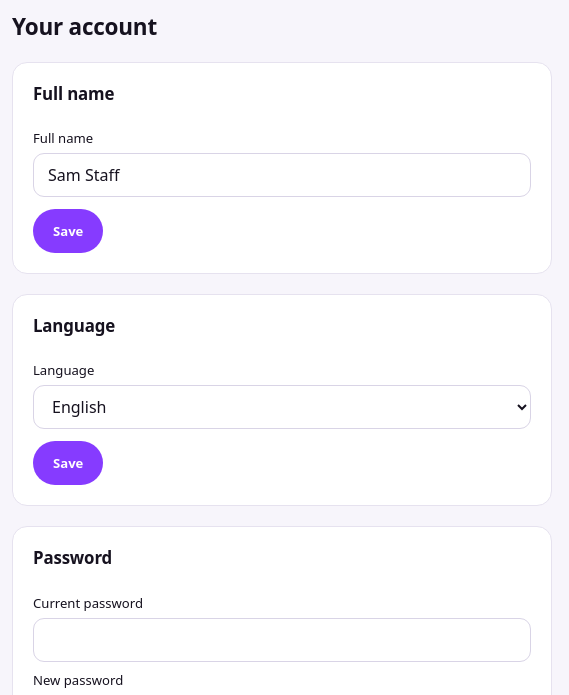
Test case: AccountPage › refuses an empty name without saving
Clear the field labelled "Full name". click: (282,175)
box: x1=33 y1=153 x2=531 y2=197
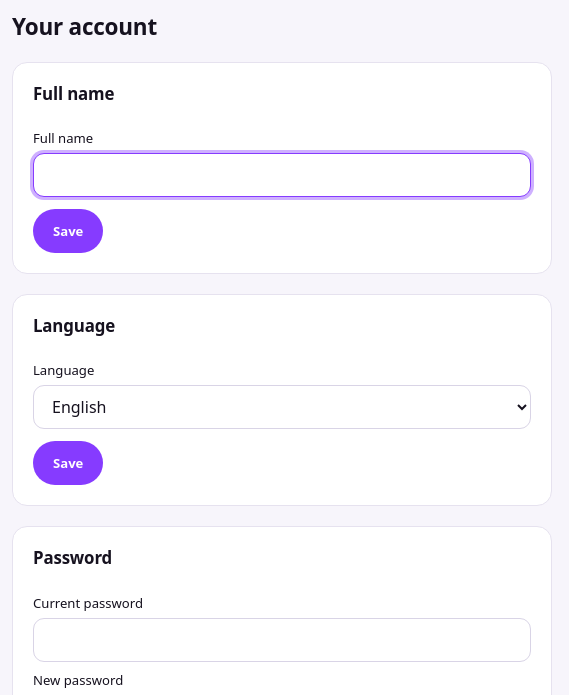
Click the 1st button "Save". click: (68,231)
box: x1=33 y1=209 x2=103 y2=253
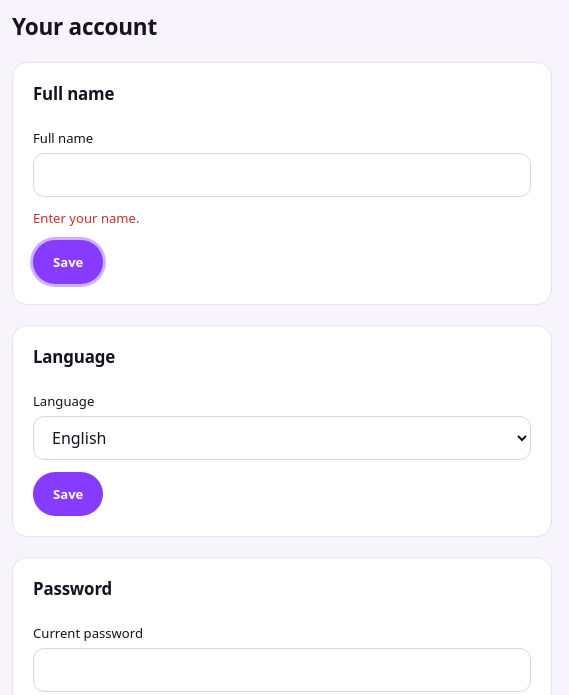
Result: the text "Enter your name." is shown at x1=33 y1=209 x2=140 y2=227
